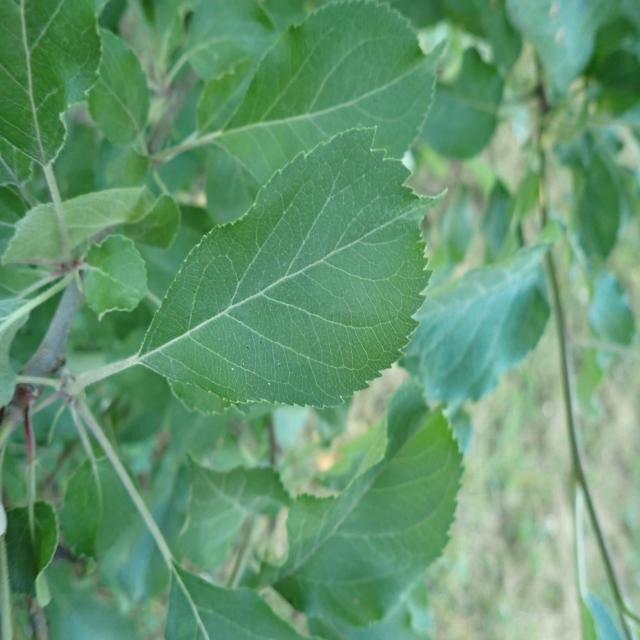healthy: (139, 124, 448, 417), (216, 0, 448, 188), (264, 404, 465, 588), (402, 241, 553, 416), (0, 0, 103, 185), (164, 560, 310, 640)
